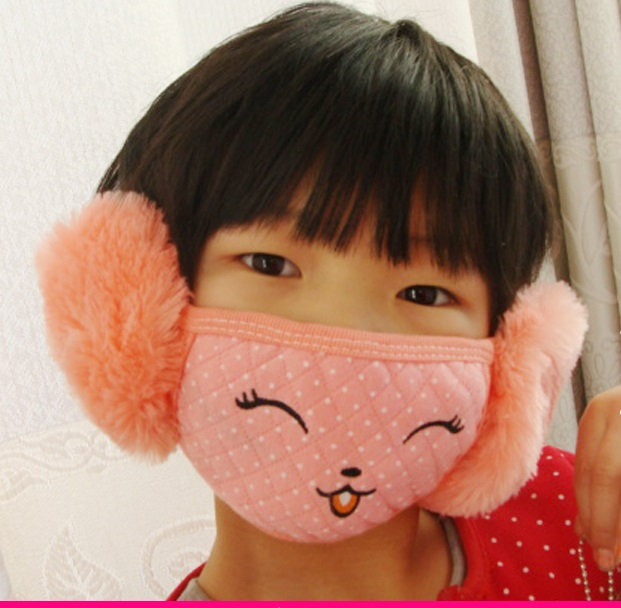face_mask: (185, 115, 504, 527)
